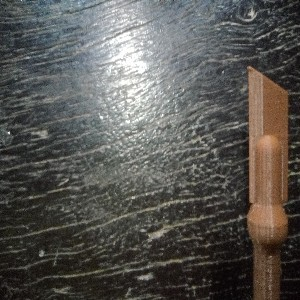cutter: (246, 64, 290, 300)
